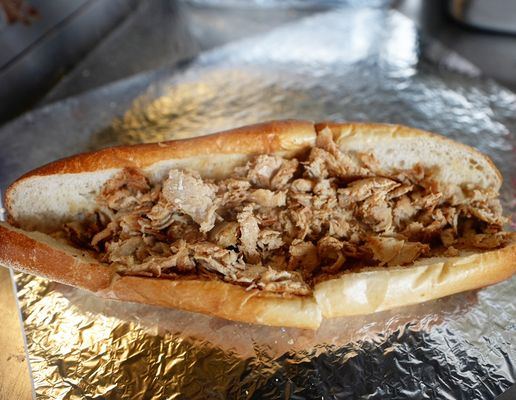sandwich: (11, 118, 515, 332)
